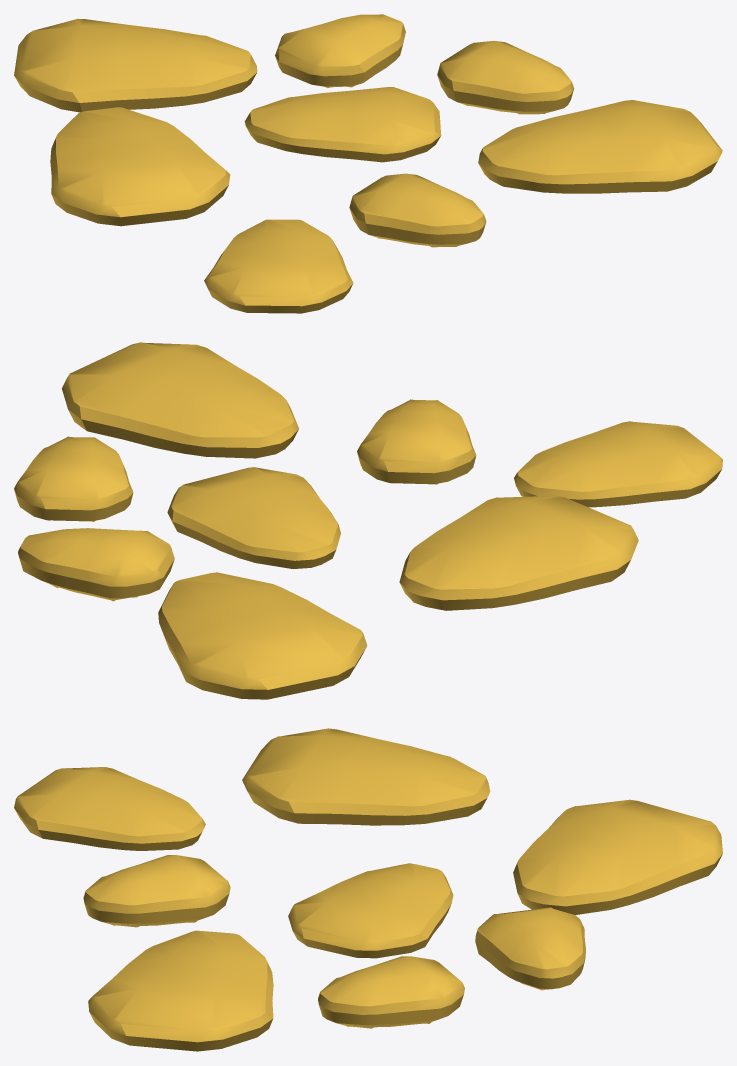
The model's file is Yellow2_seed.fbx.
3 renders of one model, top to bottom at view 1: azimuth 30°, elevation 25°; view 2: azimuth 150°, elevation 25°; view 3: azimuth 270°, elevation 25°, orthographic. The views are drawn at different scales.
Visible parts, largest first — view 1: seed1.037, seed1.036, seed1.033, seed1.035, seed1.038, seed1.031, seed1.032, seed1.034; view 2: seed1.033, seed1.036, seed1.037, seed1.038, seed1.035, seed1.034, seed1.031, seed1.032; view 3: seed1.033, seed1.037, seed1.036, seed1.038, seed1.035, seed1.032, seed1.031, seed1.034.
Part boxes in pixels (bbox=[...]): seed1.037: bbox=[14, 18, 257, 112]; seed1.036: bbox=[478, 100, 722, 193]; seed1.033: bbox=[50, 107, 230, 226]; seed1.035: bbox=[244, 87, 441, 162]; seed1.038: bbox=[204, 219, 353, 313]; seed1.031: bbox=[437, 40, 574, 114]; seed1.032: bbox=[349, 173, 486, 247]; seed1.034: bbox=[275, 14, 405, 87]; seed1.033: bbox=[399, 495, 638, 610]; seed1.036: bbox=[62, 342, 298, 458]; seed1.037: bbox=[158, 572, 367, 699]; seed1.038: bbox=[514, 421, 722, 507]; seed1.035: bbox=[167, 467, 340, 568]; seed1.034: bbox=[18, 528, 174, 601]; seed1.031: bbox=[14, 436, 133, 521]; seed1.032: bbox=[357, 399, 476, 484]; seed1.033: bbox=[242, 728, 490, 825]; seed1.037: bbox=[513, 799, 722, 914]; seed1.036: bbox=[88, 930, 273, 1051]; seed1.038: bbox=[14, 767, 205, 850]; seed1.035: bbox=[288, 863, 453, 958]; seed1.032: bbox=[83, 855, 230, 927]; seed1.031: bbox=[318, 956, 464, 1028]; seed1.034: bbox=[475, 907, 585, 990].
Size of the model in its own units: 114 by 11.79 by 118.
